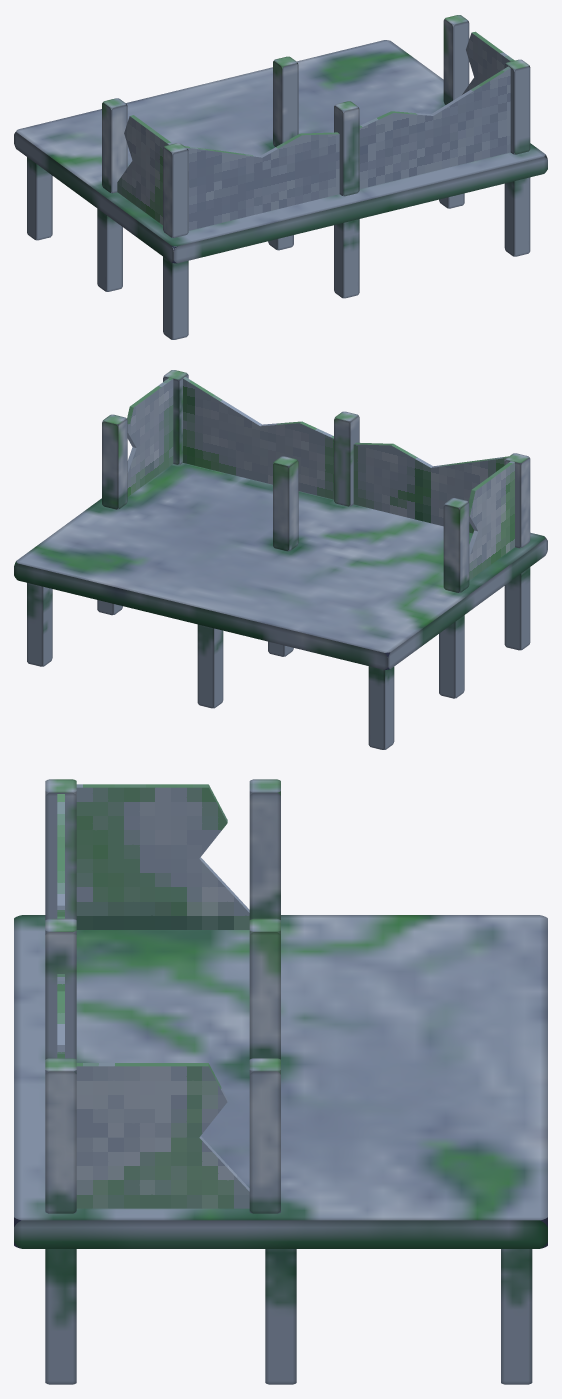
Rendered from predio_V1.fbx.
3 views of the same model, one above another, from view 1: azimuth 30°, elevation 25°; view 2: azimuth 150°, elevation 25°; view 3: azimuth 270°, elevation 25° (orthographic). The views are drawn at different scales.
Parts seen in each view (by area): view 1: plataforma, paredes de baixo, paredes de baixo_1, paredes de baixo_3, Pilares_9, Pilares_11, Pilares_12, Pilares_13, Pilares_10, cuboid, Pilares_4, Pilares_8 (+4 smaller); view 2: plataforma, paredes de baixo, paredes de baixo_1, paredes de baixo_2, paredes de baixo_3, Pilares_11, Pilares_12, Pilares_13, Pilares_1, Pilares_6, Pilares, Pilares_10 (+4 smaller); view 3: plataforma, paredes de baixo_2, paredes de baixo_3, Pilares_8, Pilares_13, Pilares_12, Pilares_11, Pilares, cuboid, Pilares_2, Pilares_10, Pilares_9 (+1 smaller).
Boxes of the visible parts, box(x1,y1,x2,y2) form: plataforma: box(14, 40, 547, 263); paredes de baixo: box(359, 66, 510, 188); paredes de baixo_1: box(184, 132, 339, 230); paredes de baixo_3: box(117, 115, 172, 225); Pilares_9: box(163, 143, 188, 237); Pilares_11: box(102, 98, 127, 193); Pilares_12: box(273, 56, 298, 146); Pilares_13: box(443, 15, 469, 104); Pilares_10: box(334, 101, 359, 196); cuboid: box(504, 177, 530, 256); Pilares_4: box(163, 246, 188, 339); Pilares_8: box(504, 59, 530, 154); plataforma: box(14, 463, 547, 669); paredes de baixo: box(183, 377, 333, 499); paredes de baixo_1: box(353, 442, 508, 533); paredes de baixo_2: box(127, 377, 173, 496); paredes de baixo_3: box(469, 461, 514, 580); Pilares_11: box(443, 498, 469, 592); Pilares_12: box(273, 456, 298, 551); Pilares_13: box(102, 414, 127, 509); Pilares_1: box(368, 666, 394, 749); Pilares_6: box(197, 624, 223, 708); Pilares: box(27, 583, 52, 666); Pilares_10: box(334, 411, 359, 506); plataforma: box(14, 915, 547, 1248); paredes de baixo_2: box(76, 1063, 249, 1208); paredes de baixo_3: box(76, 784, 249, 929); Pilares_8: box(45, 1058, 76, 1213); Pilares_13: box(249, 1058, 280, 1213); Pilares_12: box(249, 918, 280, 1059); Pilares_11: box(249, 779, 280, 919); Pilares: box(501, 1249, 532, 1384); cuboid: box(45, 1249, 76, 1384); Pilares_2: box(265, 1249, 296, 1384); Pilares_10: box(45, 918, 76, 1059); Pilares_9: box(45, 779, 76, 919).
Bounding box in the file's own units: 288 × 138 × 212.
3 materials, 3 textured.
